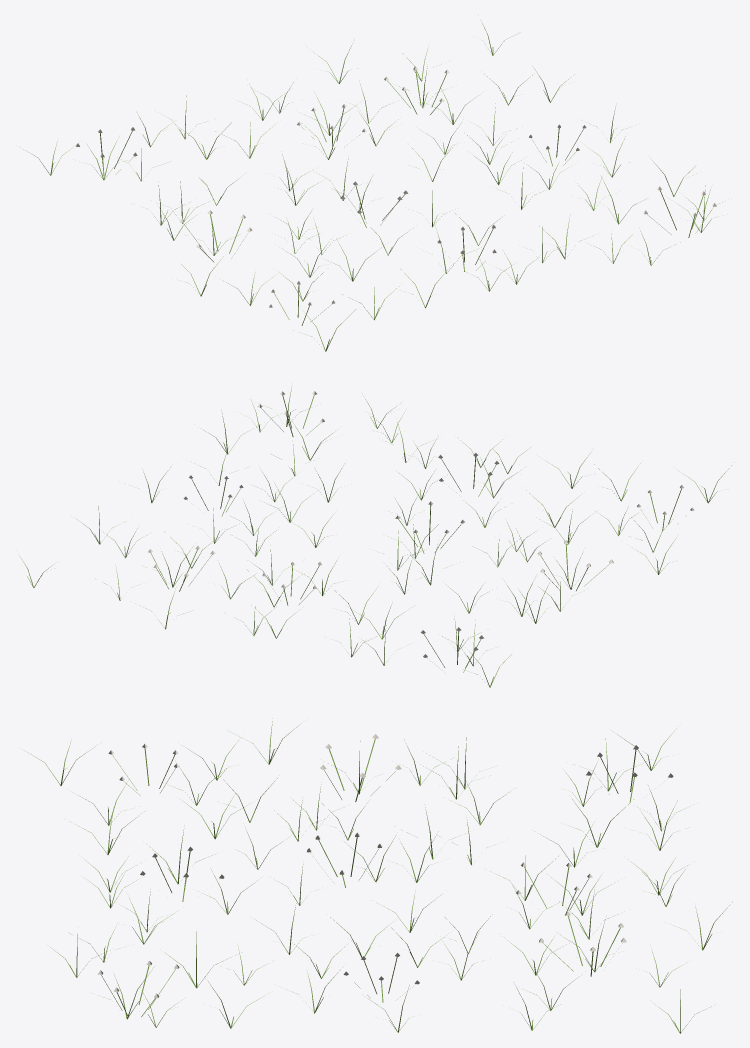
Rendered from grass_patch_white.glb.
3 renders of one model, top to bottom at view 1: azimuth 30°, elevation 25°; view 2: azimuth 150°, elevation 25°; view 3: azimuth 270°, elevation 25°, orthographic. The views are drawn at different scales.
Parts seen in each view (by area): view 1: grass_patch_white; view 2: grass_patch_white; view 3: grass_patch_white.
Boxes of the visible parts, x1=… form: grass_patch_white: x1=23, y1=23, x2=722, y2=351; grass_patch_white: x1=20, y1=385, x2=734, y2=687; grass_patch_white: x1=24, y1=718, x2=732, y2=1033.
Size of the model in its own units: 8.71 by 0.6182 by 8.79.
